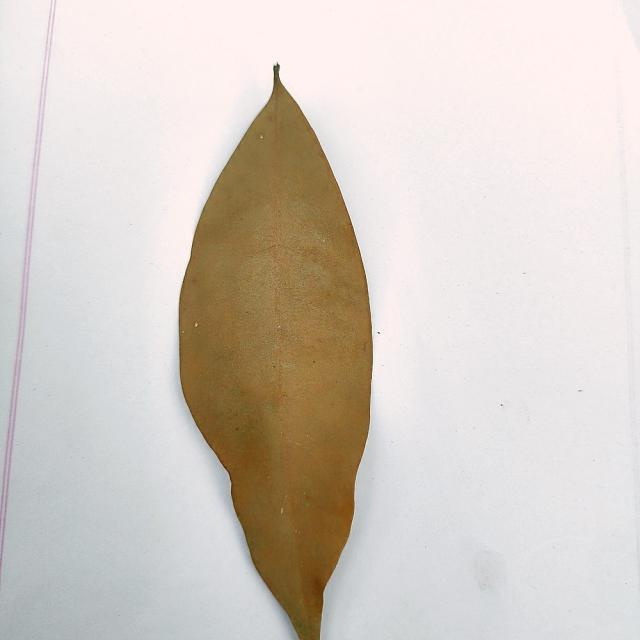Dry_Leaf-Lychee: (179, 65, 374, 639)
